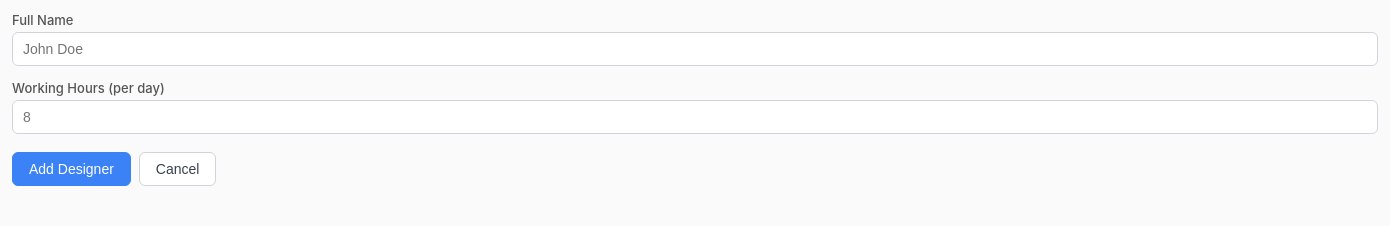
AddDesignerForm › shows error for invalid working hours
The image size is (1390, 226).
Step 1. Type "Alice" into the field labelled "Full Name" → (695, 49), box [12, 32, 1378, 66]
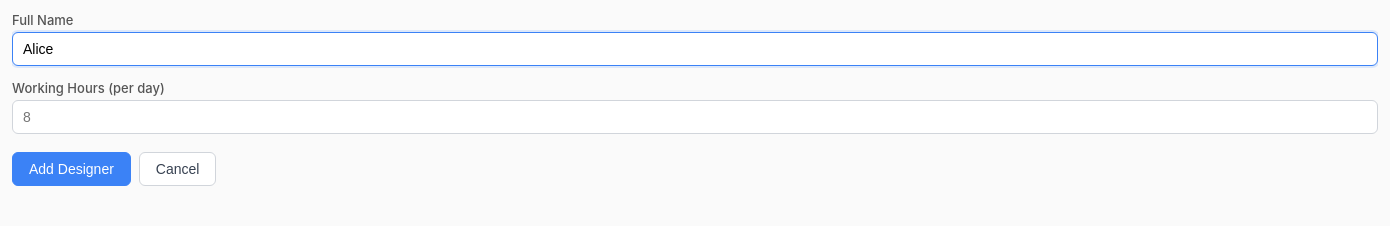
Step 2. Type "25" into the number field labelled "Working Hours (per day)" → (695, 117), box [12, 100, 1378, 134]
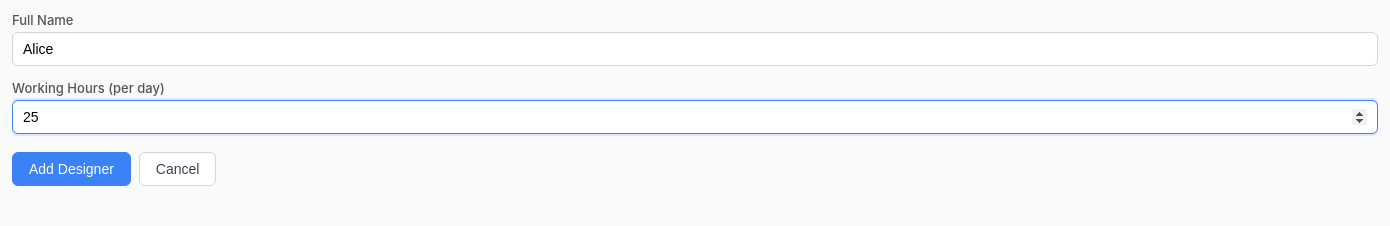
Step 3. Click the button "Add Designer" → (71, 169), box [12, 152, 131, 186]
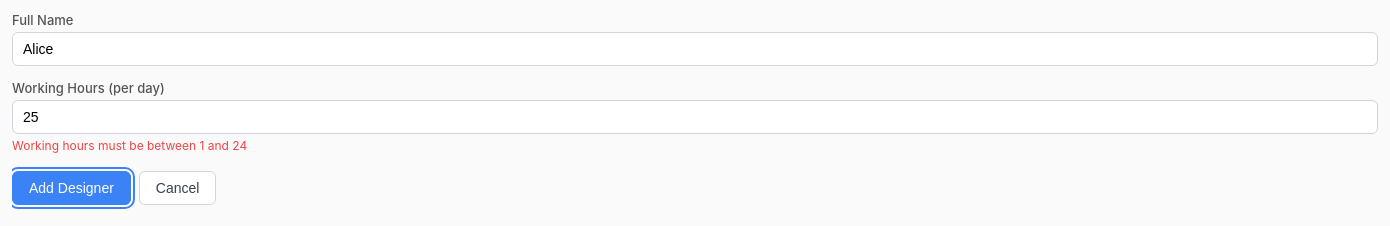
Check: the text "Working hours must be between 1 and 24" is shown, box [12, 138, 247, 153]
